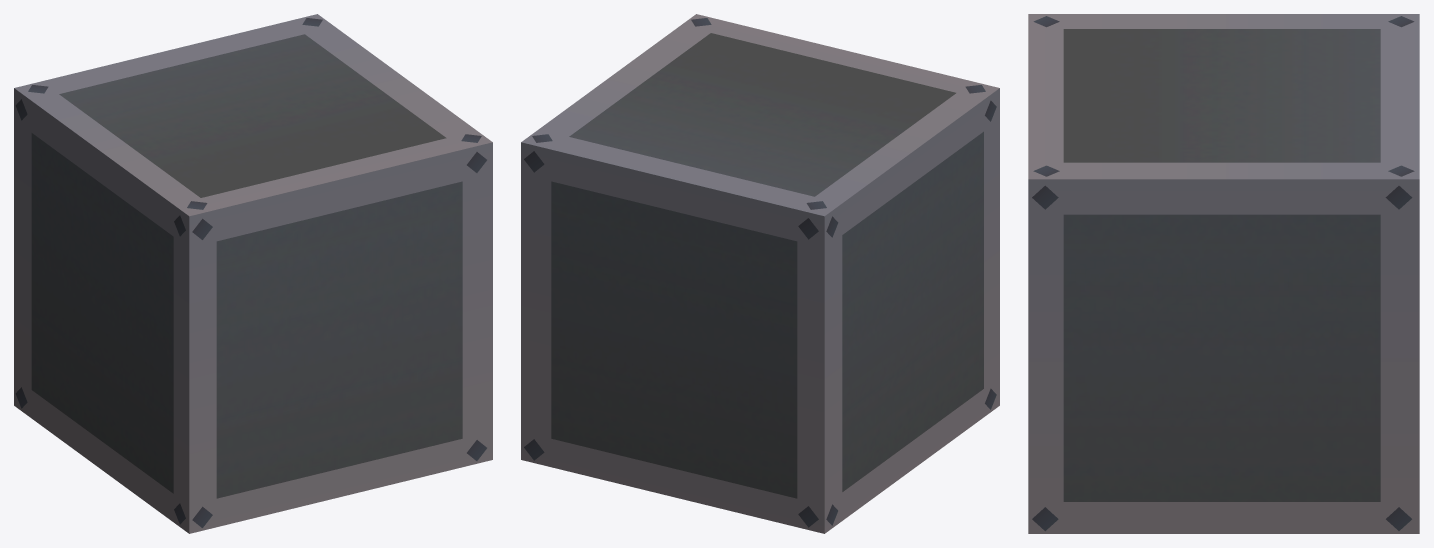
Rendered from SM_Crate_2.FBX.
3 views of the same model, side by side, from view 1: azimuth 30°, elevation 25°; view 2: azimuth 150°, elevation 25°; view 3: azimuth 270°, elevation 25° (orthographic). The views are drawn at different scales.
Parts seen in each view (by area): view 1: SM_Crate_2; view 2: SM_Crate_2; view 3: SM_Crate_2.
Boxes of the visible parts, box(x1,y1,x2,y2) form: SM_Crate_2: box(14, 14, 492, 533); SM_Crate_2: box(521, 14, 999, 533); SM_Crate_2: box(1028, 14, 1419, 533).
Size of what is drawn, in the model's own units: 57.65 by 57.65 by 57.83.
